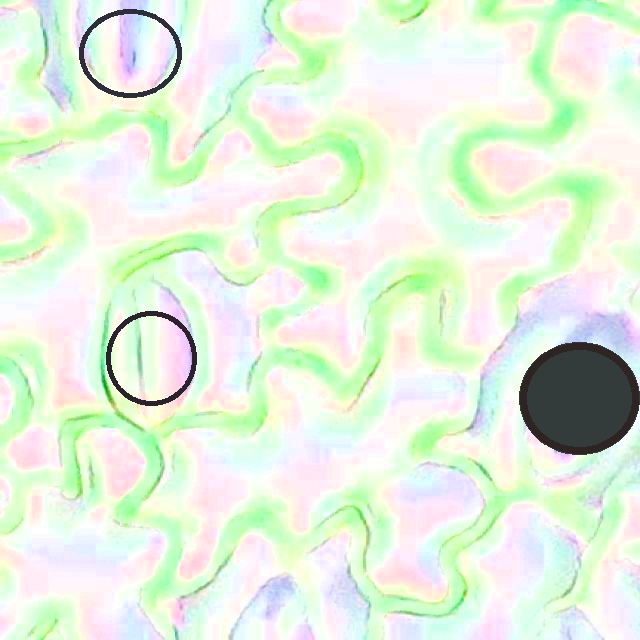close: (105, 309, 197, 406)
open: (519, 343, 639, 454), (77, 8, 182, 98)
